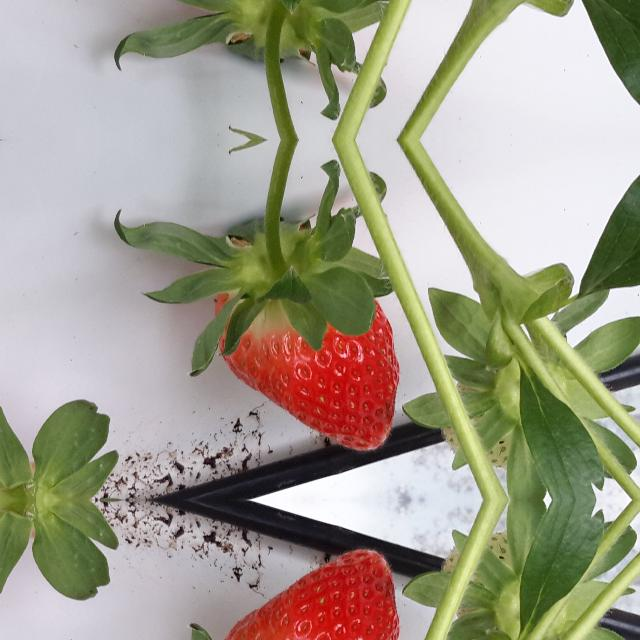Health_100: (214, 294, 400, 450), (214, 550, 400, 640)
